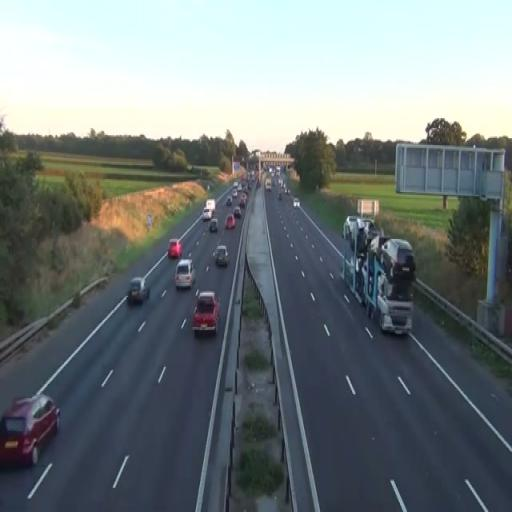Car: (0, 392, 61, 467), (192, 290, 220, 337), (174, 259, 196, 290), (128, 277, 150, 305), (168, 238, 182, 260), (216, 245, 230, 267), (225, 214, 236, 230), (209, 217, 218, 232), (234, 207, 242, 218)
Truck: (341, 210, 416, 338)
